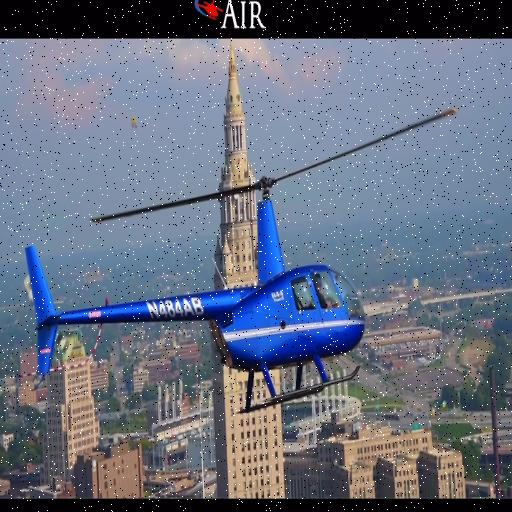helicopter: (24, 108, 459, 414)
